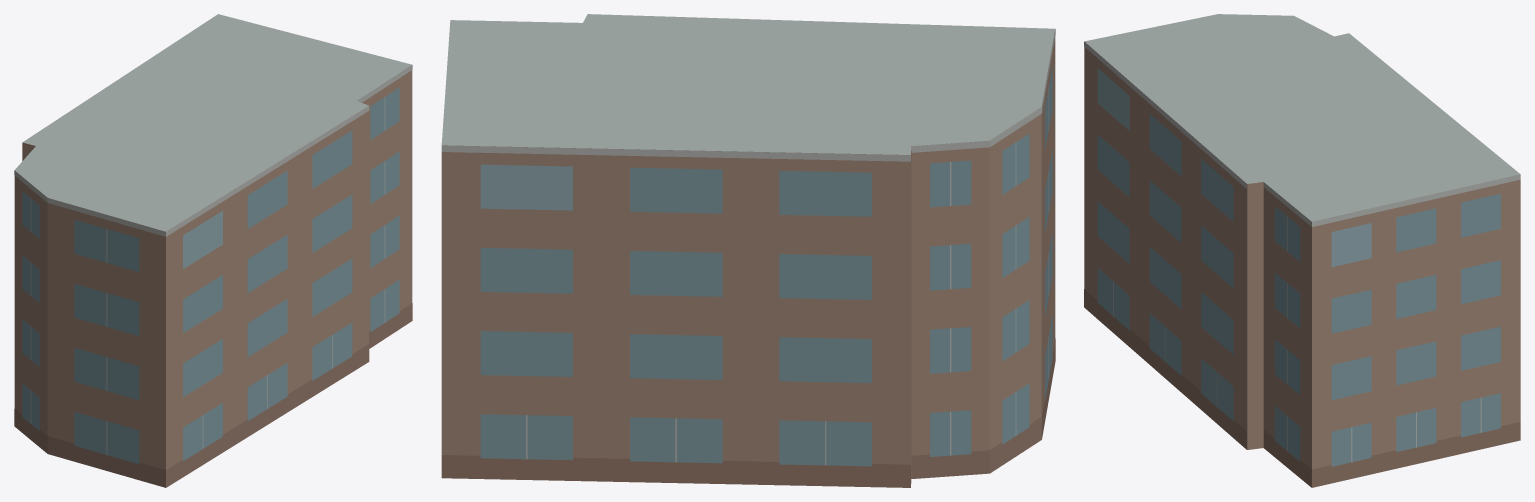
The model's file is survey-upis-32837040.glb.
3 renders of one model, left to right at view 1: azimuth 30°, elevation 25°; view 2: azimuth 150°, elevation 25°; view 3: azimuth 270°, elevation 25°, orthographic. The views are drawn at different scales.
Parts seen in each view (by area): view 1: survey-upis-32837040.tmp; view 2: survey-upis-32837040.tmp; view 3: survey-upis-32837040.tmp.
Boxes of the visible parts, <box> form: survey-upis-32837040.tmp: <box>14,14,412,487</box>; survey-upis-32837040.tmp: <box>441,14,1055,487</box>; survey-upis-32837040.tmp: <box>1084,14,1520,487</box>.
Bounding box in the file's own units: 20.45 × 12.2 × 18.15.
